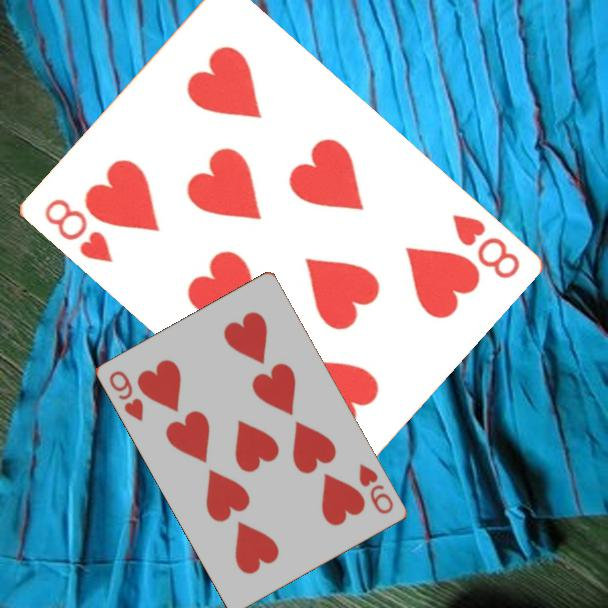h08: (448, 210, 522, 282), (40, 195, 115, 266)
h09: (106, 367, 147, 425), (356, 460, 397, 517)
